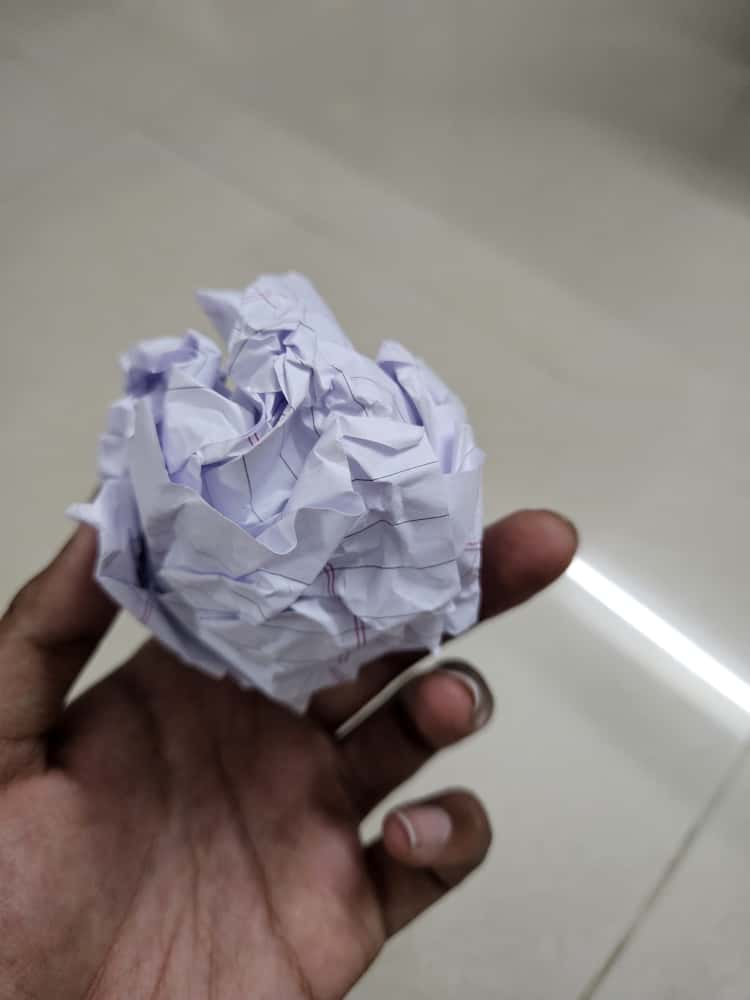dry: (57, 269, 527, 742)
